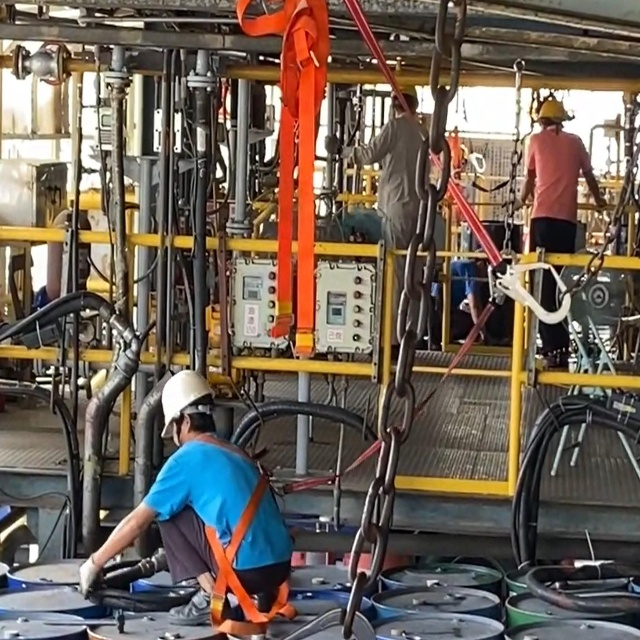Arnes_seguridad: (190, 437, 295, 629)
